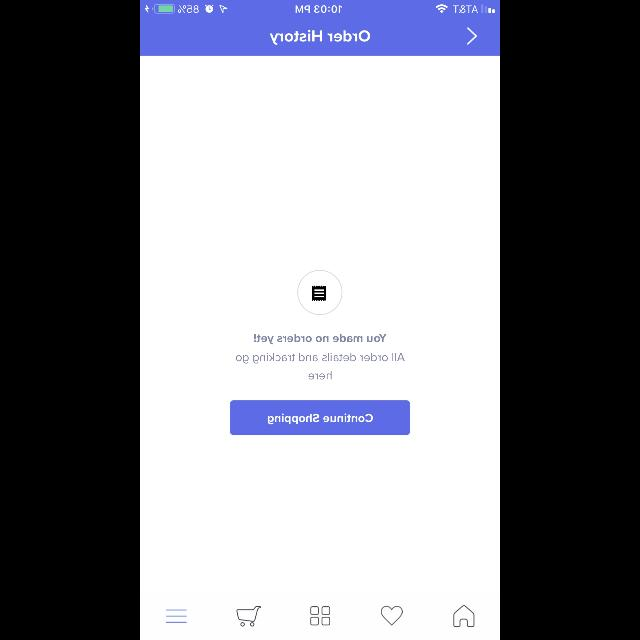icon: (298, 270, 342, 316), (237, 606, 261, 626), (452, 605, 473, 627), (381, 606, 403, 626), (310, 606, 330, 626), (166, 610, 187, 622), (467, 28, 477, 44)
text: (236, 353, 404, 379), (270, 30, 370, 46), (254, 334, 386, 344)
textbutton: (230, 400, 410, 436)
uppertaskbar: (140, 0, 500, 14)
